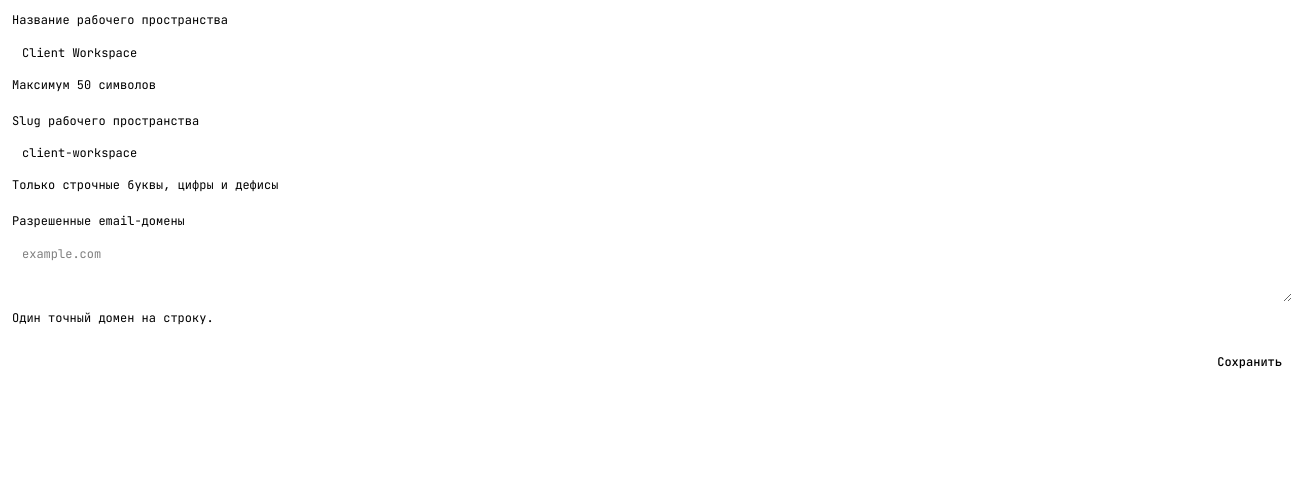
Scenario: WorkspaceSettingsForm › renders server action errors inline instead of sending them to a toast
This screenshot has width=1304, height=485.
Replace the text in the field labelled "Название рабочего пространства" with "Existing Workspace" at {"x": 652, "y": 52}, box [12, 36, 1292, 68]
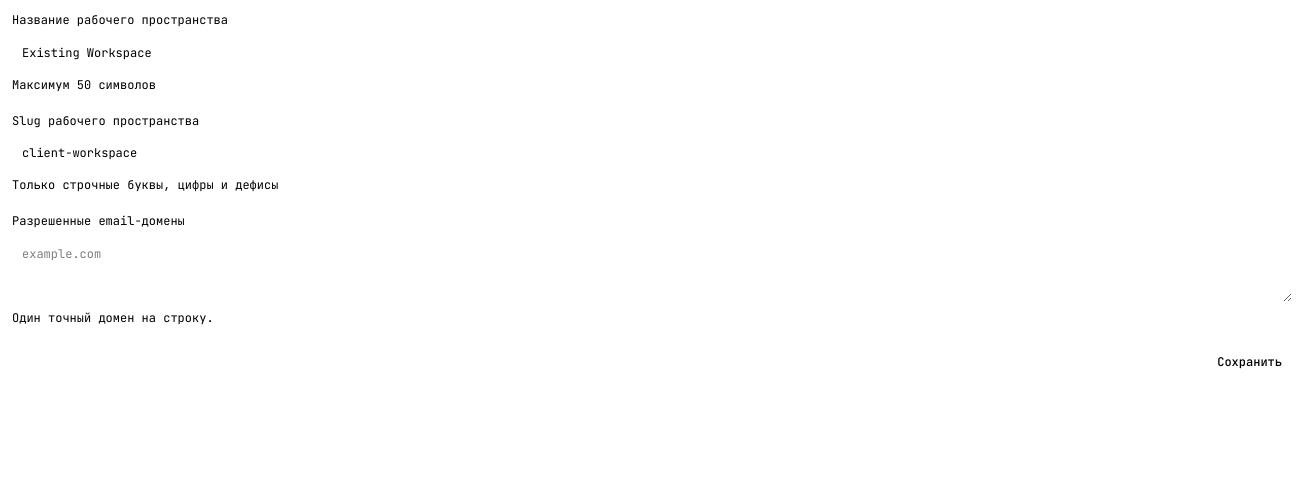
Expected: the button "Сохранить" is enabled, [1207, 346, 1292, 378]
Submit the form named "Сохранить"
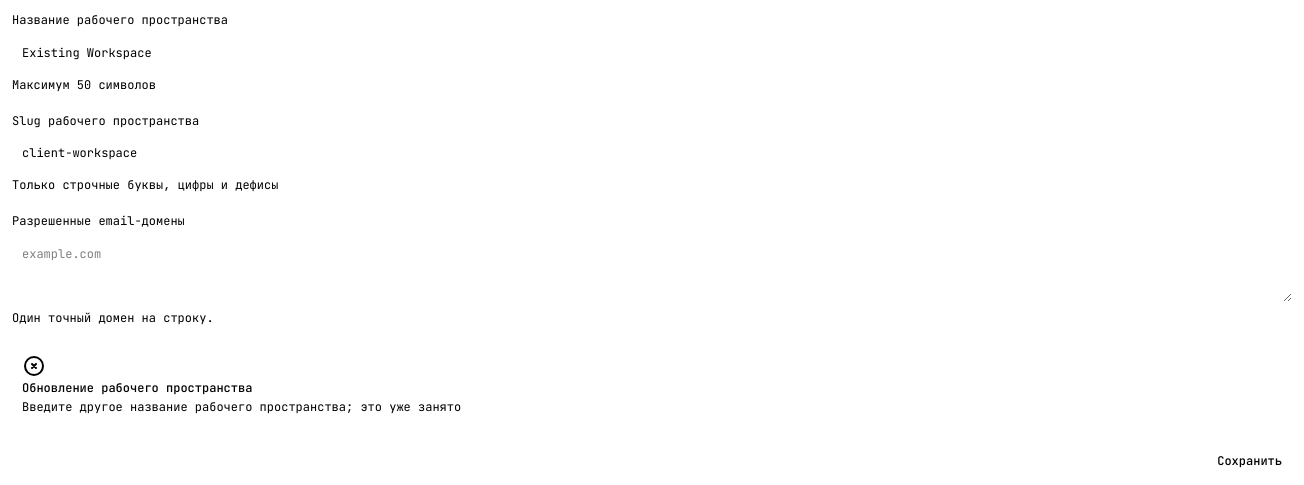
Now the text "Введите другое название рабочего пространства; это уже занято" is shown, box [22, 398, 461, 414]
Now the text "Обновление рабочего пространства" is shown, box [22, 380, 252, 396]
